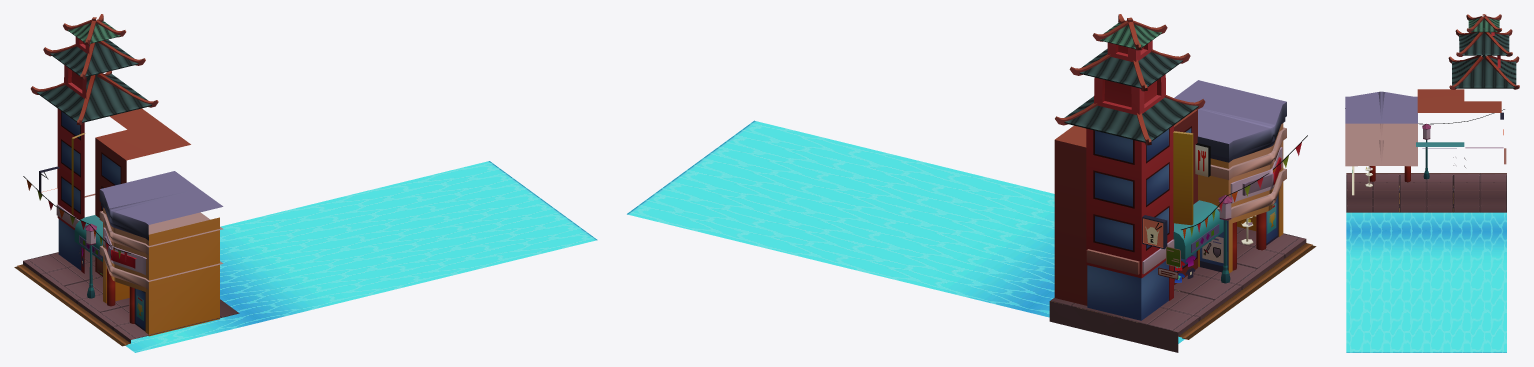
The model's file is 1.100_SanFrancisco_med_01_left.glb.
The picture shows the model from 3 angles, left to right: view 1: azimuth 30°, elevation 25°; view 2: azimuth 150°, elevation 25°; view 3: azimuth 270°, elevation 25°; orthographic projection. The views are drawn at different scales.
Visible parts, largest first — view 1: 1.100_SanFrancisco_med_01_left; view 2: 1.100_SanFrancisco_med_01_left; view 3: 1.100_SanFrancisco_med_01_left.
Part boxes in pixels (left/top/right/bottom): 1.100_SanFrancisco_med_01_left: left=14, top=14, right=597, bottom=352; 1.100_SanFrancisco_med_01_left: left=627, top=14, right=1316, bottom=352; 1.100_SanFrancisco_med_01_left: left=1345, top=14, right=1519, bottom=352.
Size of the model in its own units: 457 by 236 by 196.
3 materials, 3 textured.
